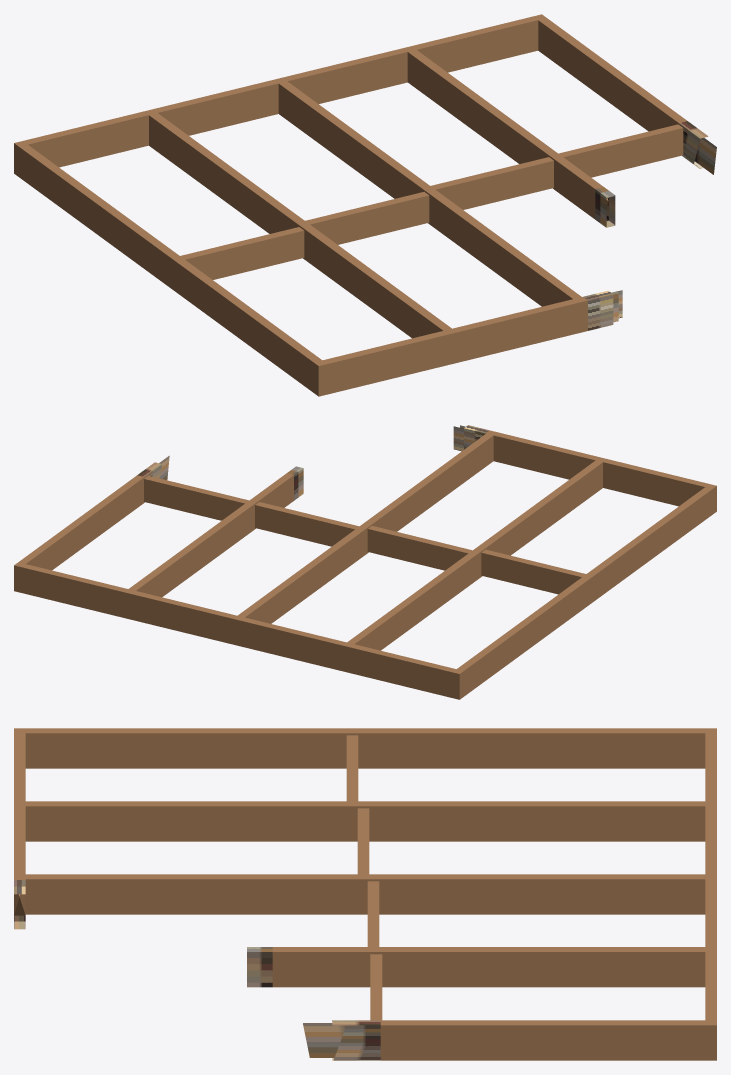
Rendered from DBK_WoodFrame_Floor_90_B.fbx.
3 renders of one model, top to bottom at view 1: azimuth 30°, elevation 25°; view 2: azimuth 150°, elevation 25°; view 3: azimuth 270°, elevation 25°, orthographic. The views are drawn at different scales.
Visible parts, largest first — view 1: DBK_WoodFrame_Floor_90_B; view 2: DBK_WoodFrame_Floor_90_B; view 3: DBK_WoodFrame_Floor_90_B.
Part boxes in pixels (x1,y1,x2,y2): DBK_WoodFrame_Floor_90_B: (14,14,716,396); DBK_WoodFrame_Floor_90_B: (14,425,716,699); DBK_WoodFrame_Floor_90_B: (14,728,716,1060).
Size of the model in its own units: 300 by 16.58 by 300.
